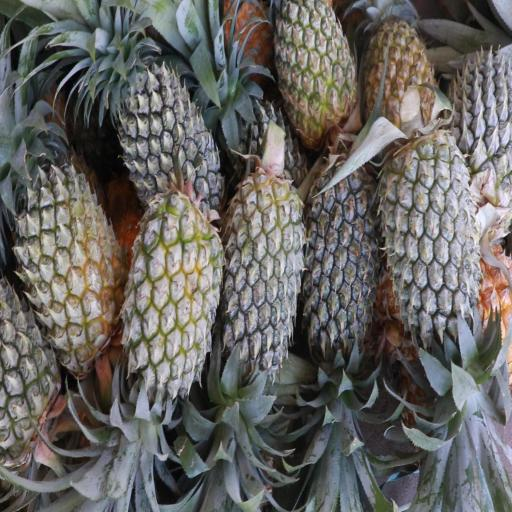------------------------------: (14, 154, 119, 368), (125, 194, 222, 420), (273, 0, 355, 146), (364, 0, 438, 138)
